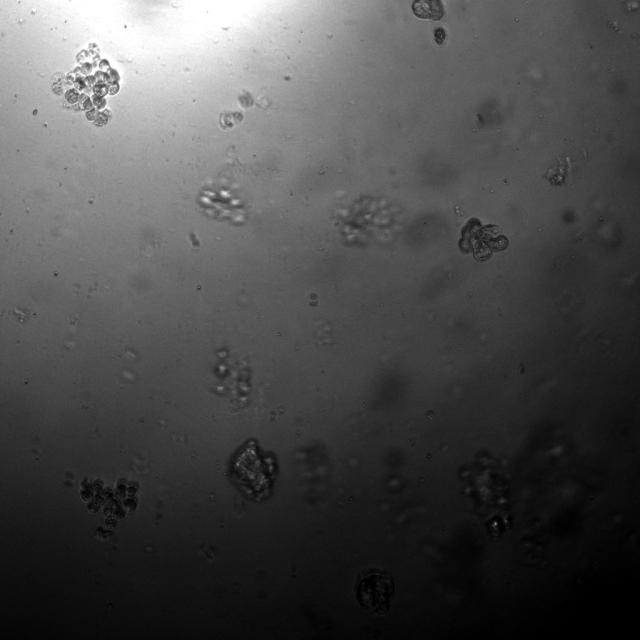organoid: (51, 43, 121, 126), (79, 478, 139, 541), (332, 194, 400, 245), (228, 438, 278, 502), (212, 348, 251, 414), (458, 218, 508, 262), (198, 180, 246, 225), (545, 156, 573, 185), (412, 0, 444, 21), (219, 111, 244, 130), (238, 90, 254, 108), (434, 26, 447, 46), (188, 232, 200, 250), (308, 292, 319, 307), (453, 205, 464, 217), (577, 234, 583, 240), (598, 215, 603, 222)
